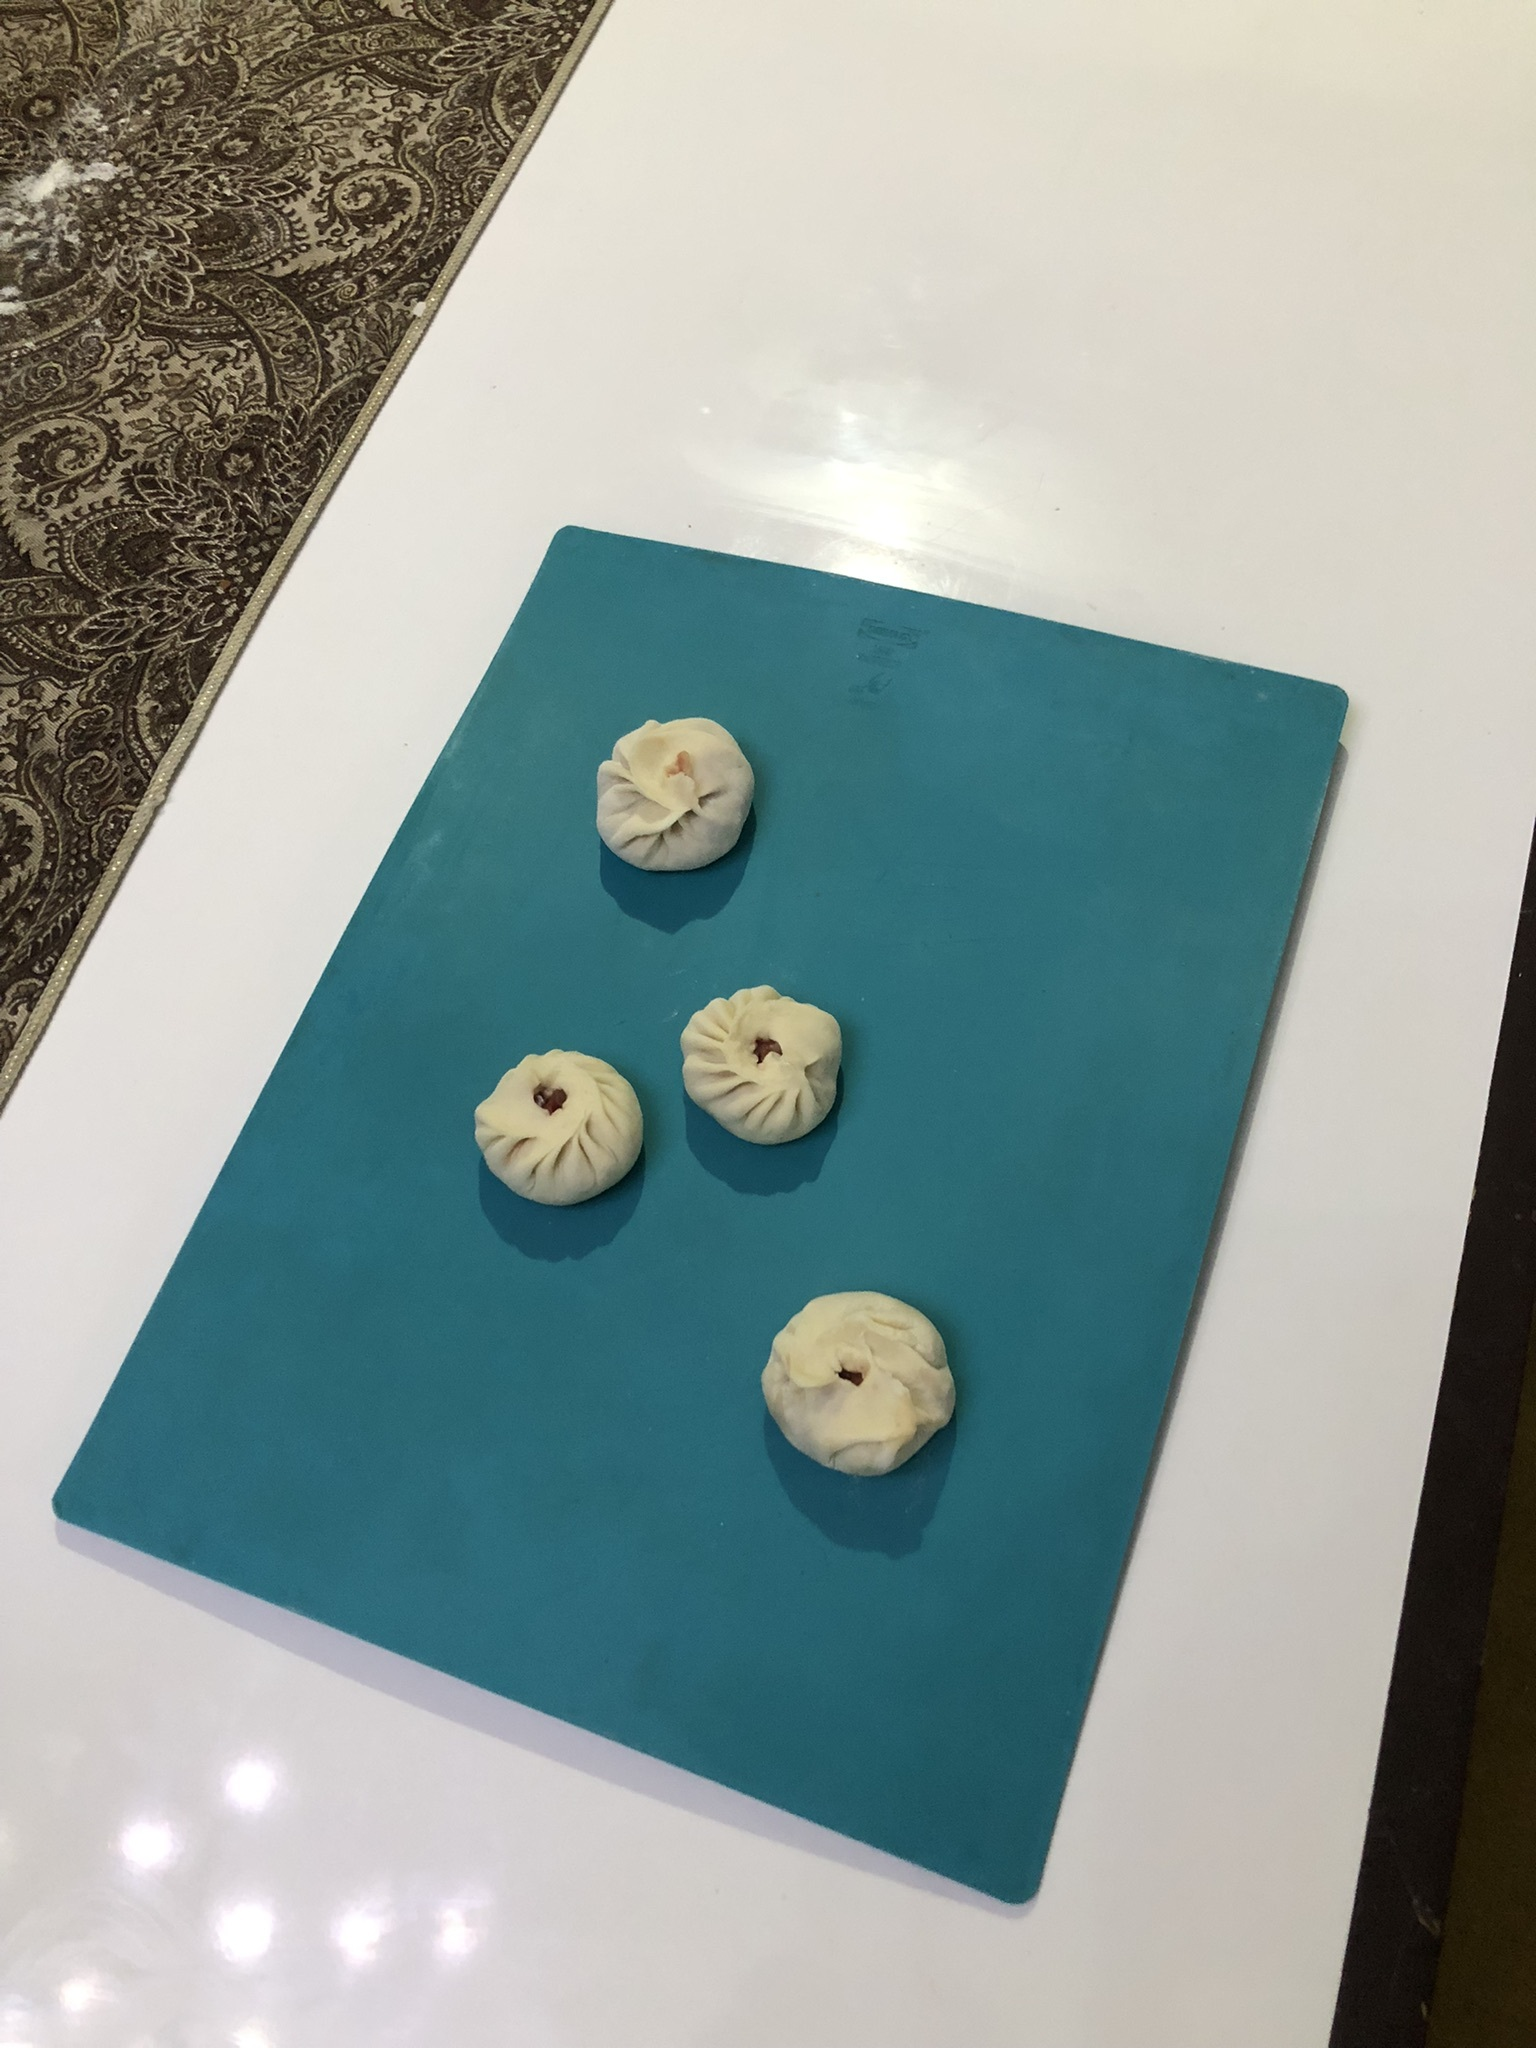buuz: (752, 1286, 967, 1487), (670, 971, 857, 1158), (465, 1041, 652, 1217), (591, 710, 762, 878)
